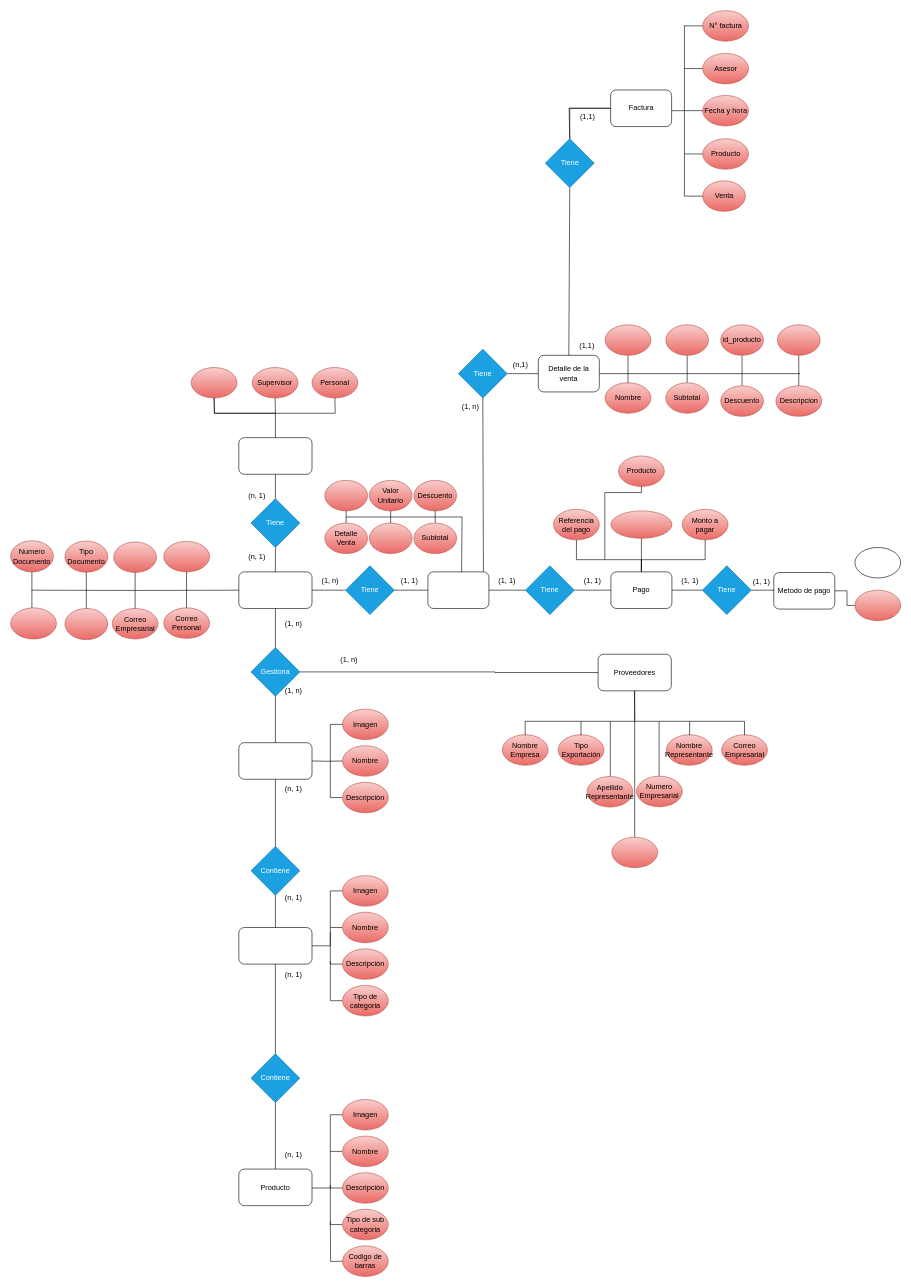
This 911x1287 diagram has some shape labels left out. The shapes that lost their labels are listed below. From the top down, each one's centre as x and y in pixels, then its label:
the point at 628,339: Id detalle
the point at 687,339: valor_unitario
the point at 798,339: id_venta
the point at 214,382: Administrador
the point at 275,455: Rol
the point at 346,495: Cantidad
the point at 390,538: Nombre Producto
the point at 641,524: Fecha y hora del pago realizado
the point at 134,556: Apellidos
the point at 186,556: Nombres
the point at 877,562: Billetera Virtual
the point at 275,589: Usuario
the point at 458,589: Ingreso de ventas
the point at 877,605: Efectivo
the point at 33,623: Numero Celular
the point at 86,624: Contraseña
the point at 275,760: Categorias
the point at 634,852: Imagen de la empresa
the point at 275,945: Sub-categorias
